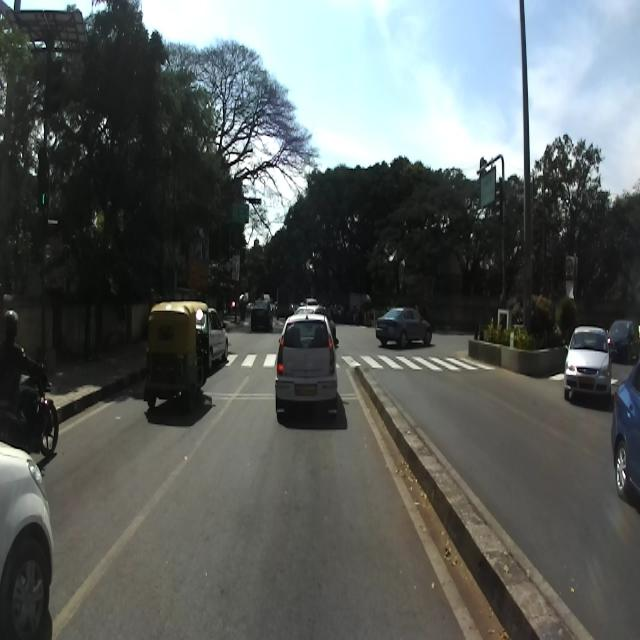Car: (274, 312, 338, 421)
Car_TATA: (564, 318, 612, 408)
autorickshaw: (142, 299, 210, 408)
motorcycle_Hero: (1, 350, 60, 454)
